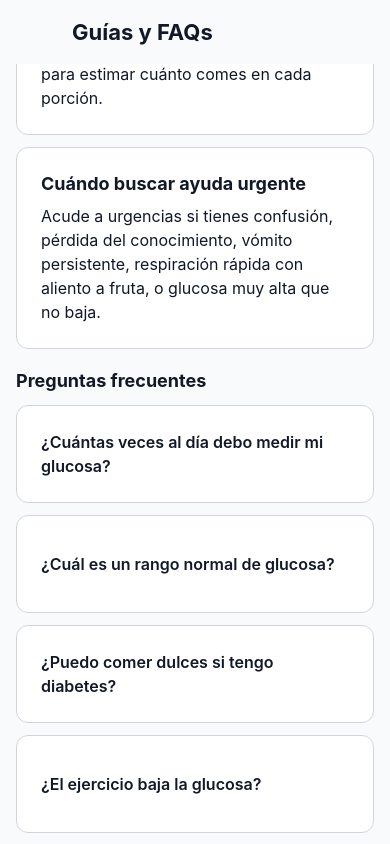
Test: GuidesScreen › muestra las preguntas plegadas y despliega una sola a la vez
The width and height of the screenshot is (390, 844).
(page scrolled)
Step 1. Click the button "¿Cuántas veces al día debo medir mi glucosa?" → [195, 454], box left=41, top=430, right=349, bottom=478
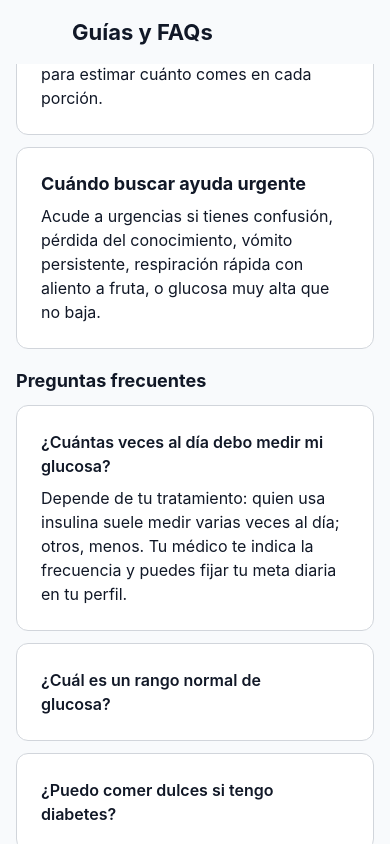
Now the text "Depende de tu tratamiento: quien usa insulina suele medir varias veces al día; otros, menos. Tu médico te indica la frec" is shown, box left=41, top=488, right=344, bottom=604
Step 2. Click the text "¿Cuál es un rango normal de glucosa?" → [153, 692], box left=41, top=670, right=265, bottom=714
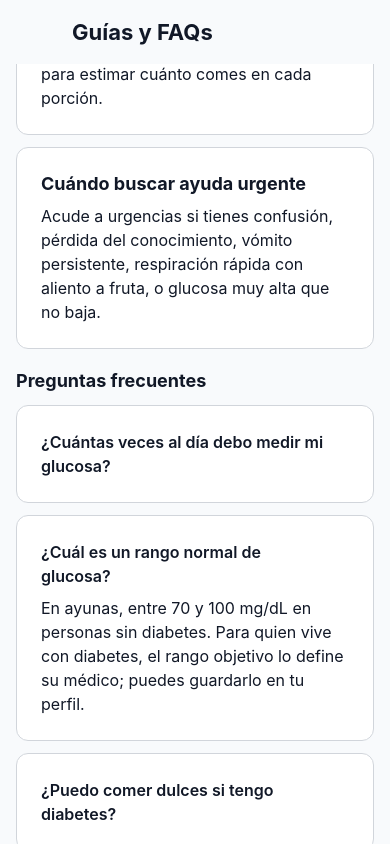
Now the text "En ayunas, entre 70 y 100 mg/dL en personas sin diabetes. Para quien vive con diabetes, el rango objetivo lo define su m" is shown, box left=41, top=598, right=348, bottom=714
Now the text "Depende de tu tratamiento: quien usa insulina suele medir varias veces al día; otros, menos. Tu médico te indica la frec" is gone
